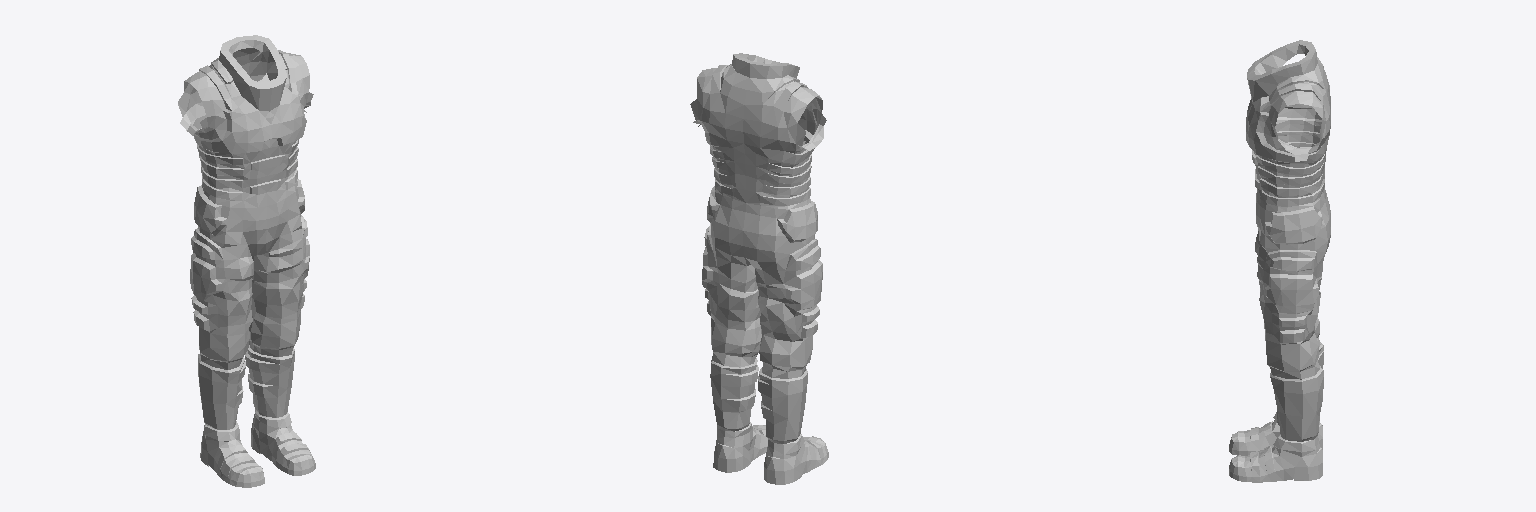
The model's file is MedicBody.obj.
The picture shows the model from 3 angles: view 1: azimuth 30°, elevation 25°; view 2: azimuth 150°, elevation 25°; view 3: azimuth 270°, elevation 25°; orthographic projection.
Parts seen in each view (by area): view 1: Object002 initialShadingGroup initialShadingGroup1 polySurface38; view 2: Object002 initialShadingGroup initialShadingGroup1 polySurface38; view 3: Object002 initialShadingGroup initialShadingGroup1 polySurface38.
Boxes of the visible parts, <box> form: Object002 initialShadingGroup initialShadingGroup1 polySurface38: <box>178,35,315,487</box>; Object002 initialShadingGroup initialShadingGroup1 polySurface38: <box>690,53,828,484</box>; Object002 initialShadingGroup initialShadingGroup1 polySurface38: <box>1229,40,1330,482</box>.
Size of the model in its own units: 27.37 by 91.13 by 20.63.